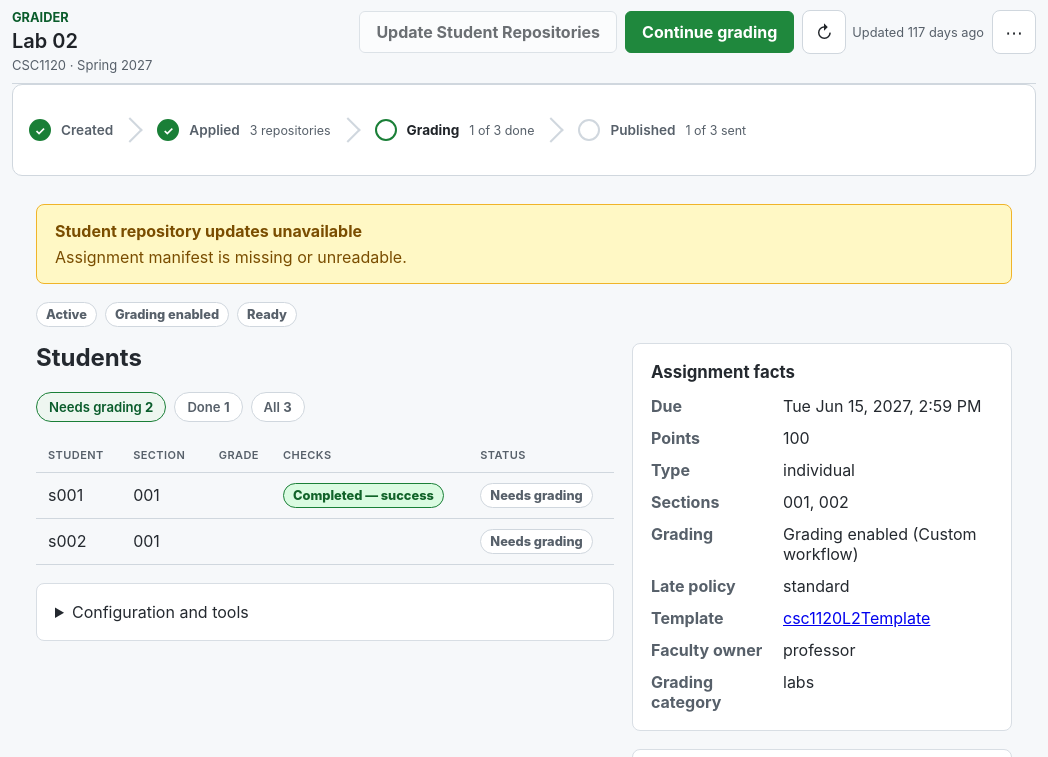
it: AssignmentDetailPage › refreshes from applied to not applied and clears stale template-sync guidance
expect the text "Assignment manifest is missing or unreadable." is shown: met, box [55,247,407,267]
Click the button named "Refresh assignment detail" at (824, 32), box [802,10,846,54]
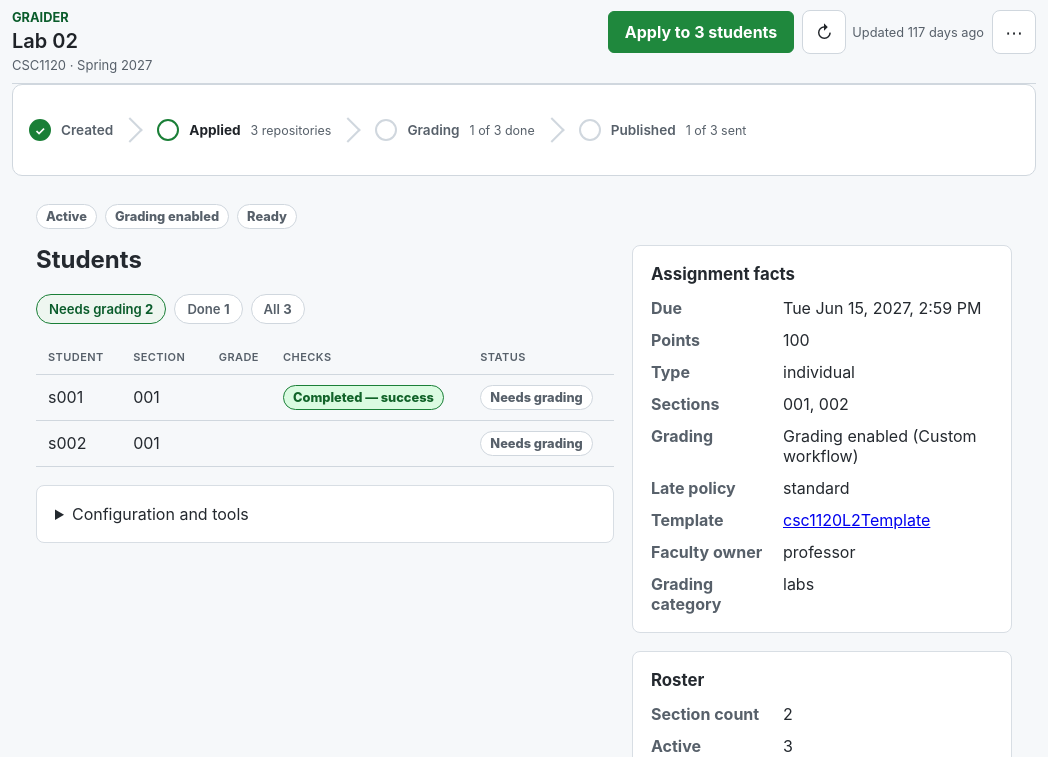
expect the button "Apply to 3 students" is shown: met, box [608,11,794,53]
expect the heading "Student repository updates unavailable" is gone: met
expect the text "Assignment manifest is missing or unreadable." is gone: met
